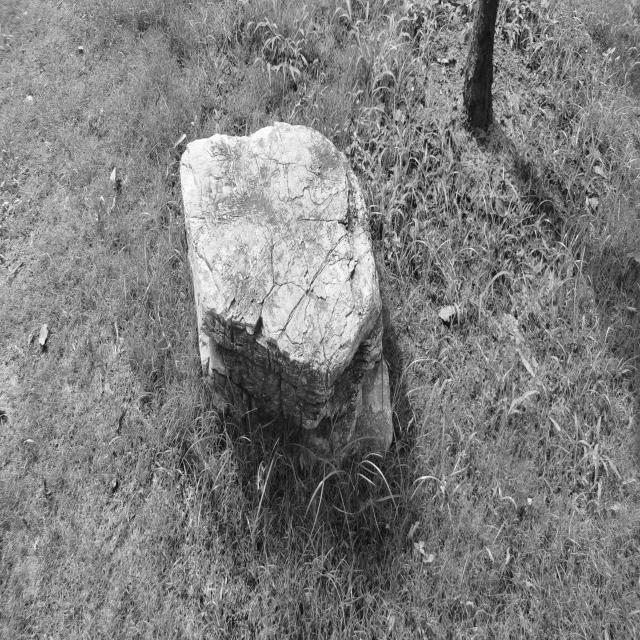Stone: (182, 122, 392, 450)
